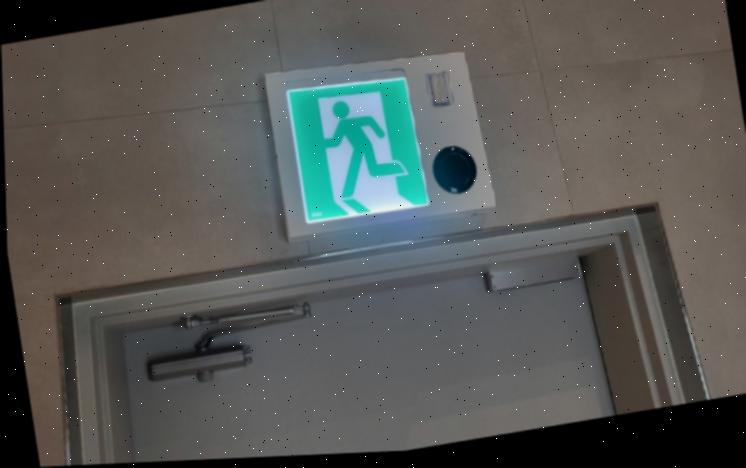emergency_exit: (263, 50, 497, 243)
